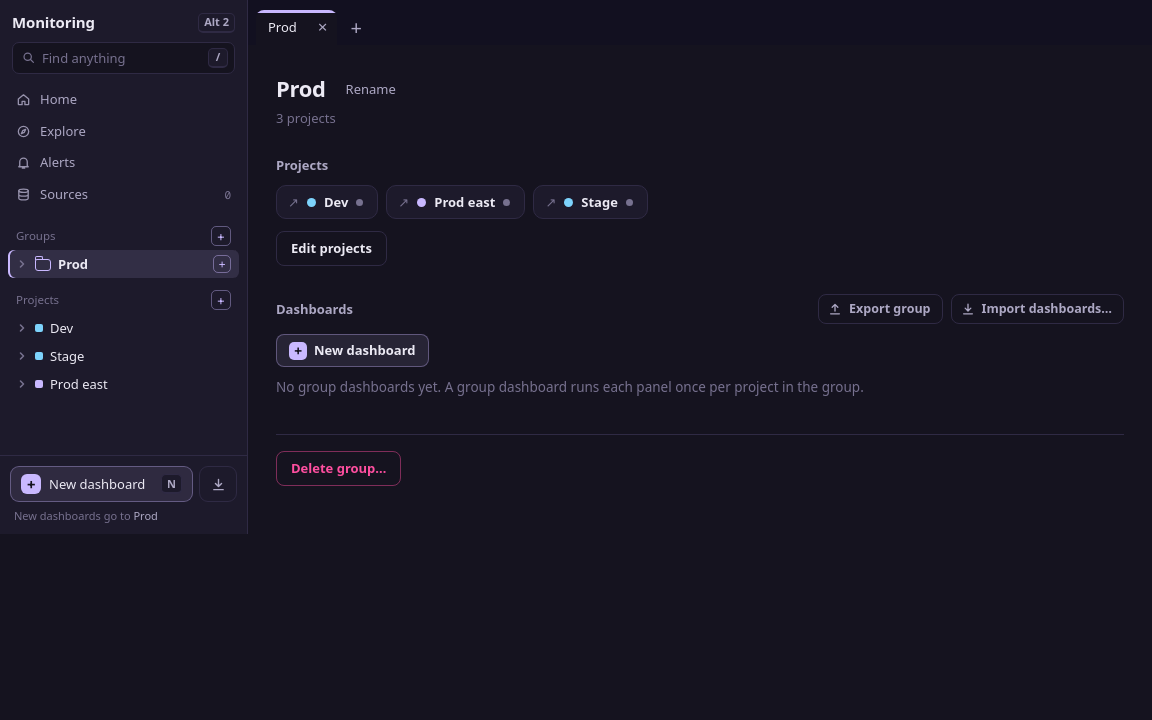
Group delete review and alert rules › group delete lists its rules, names only the clusters they run in, and waits
Later steps or results of the test are not shown.
Click the button "Delete group…": x=339, y=469 276,451 -> 402,486
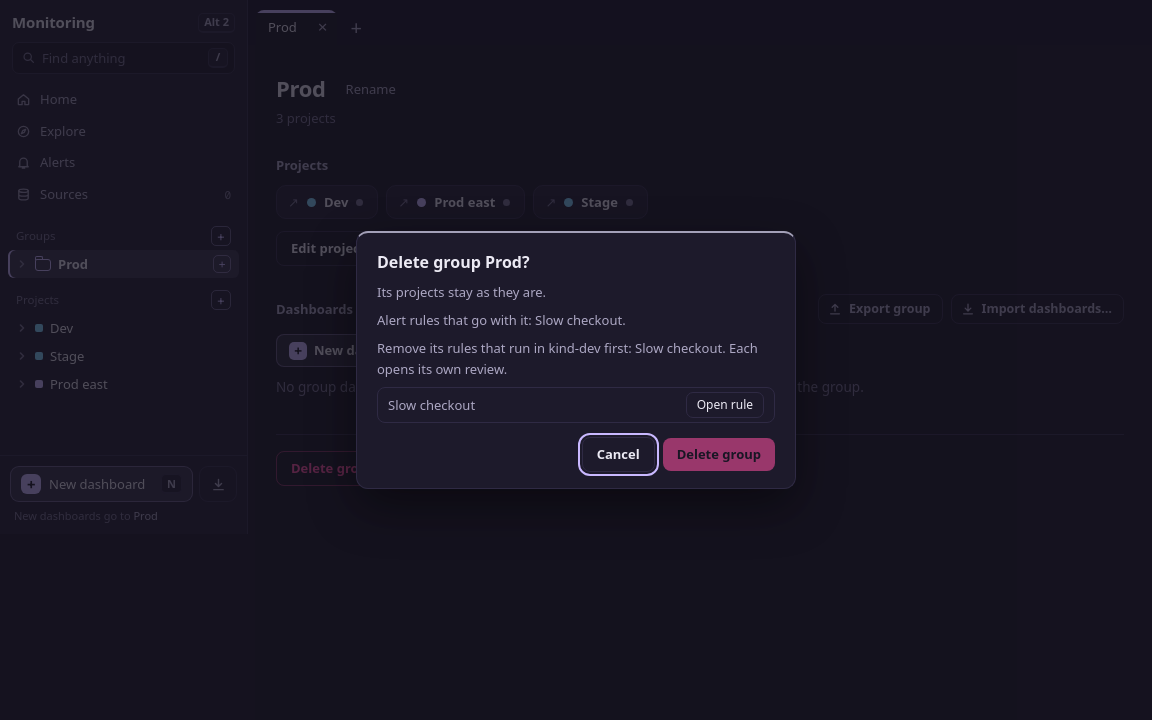
Expected: the text "Alert rules that go with it: Slow checkout." is shown, 377,311 -> 626,329
Expected: the text "Remove its rules that run in kind-dev first: Slow checkout. Each opens its own review." is shown, 377,339 -> 758,378
